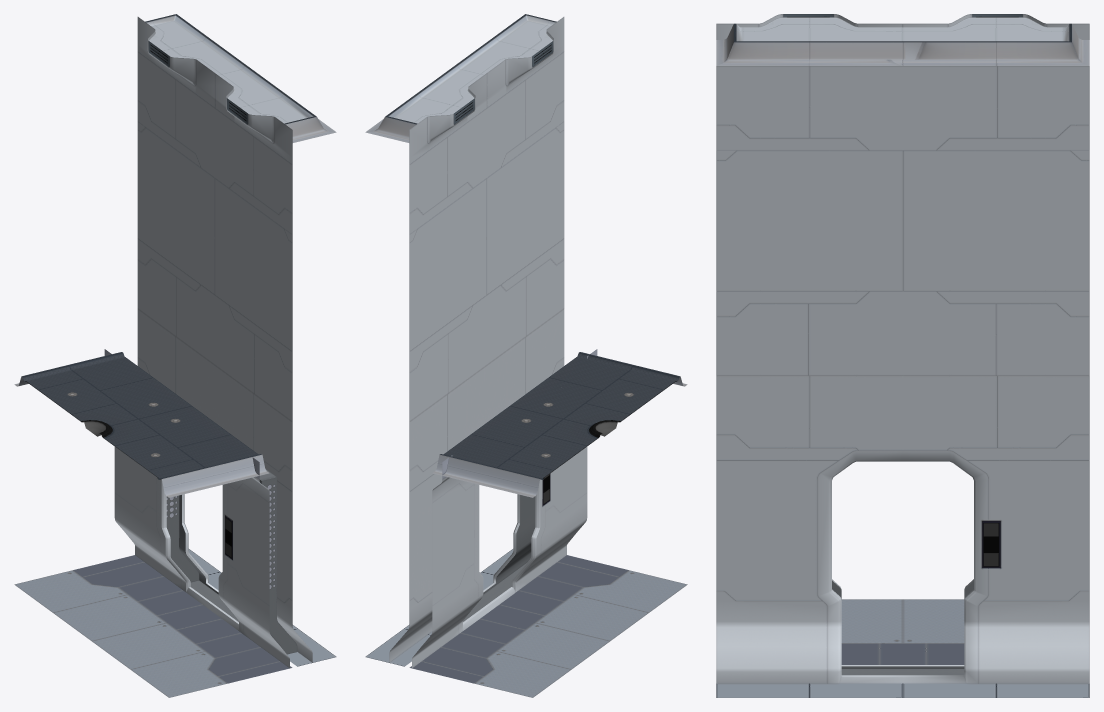
Rendered from Room_A_4m_doorway_tall.fbx.
3 views of the same model, side by side, from view 1: azimuth 30°, elevation 25°; view 2: azimuth 150°, elevation 25°; view 3: azimuth 270°, elevation 25° (orthographic). The views are drawn at different scales.
Visible parts, largest first — view 1: Room_A_4m_doorway_tall; view 2: Room_A_4m_doorway_tall; view 3: Room_A_4m_doorway_tall.
Boxes of the visible parts, bbox=[...] form: Room_A_4m_doorway_tall: bbox=[14, 14, 336, 697]; Room_A_4m_doorway_tall: bbox=[365, 14, 687, 697]; Room_A_4m_doorway_tall: bbox=[716, 14, 1089, 697].
Bounding box in the file's own units: 250 × 766 × 400.
11 materials, 11 textured.
